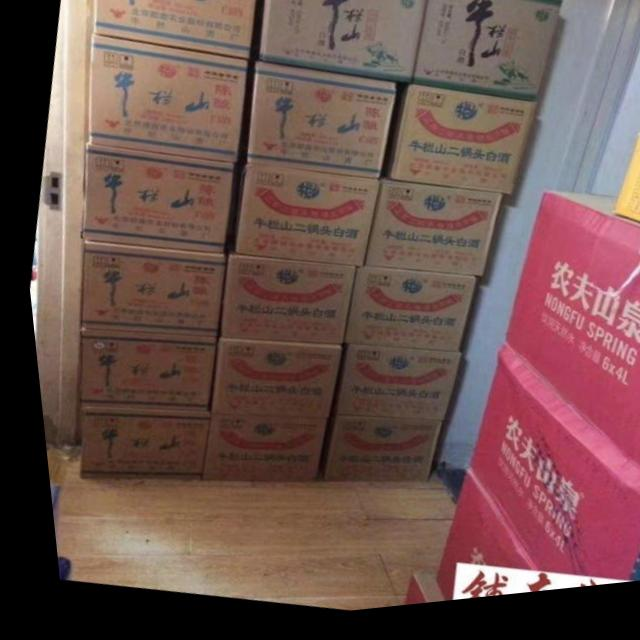box: (452, 353, 640, 593), (495, 203, 640, 487), (86, 38, 247, 165), (241, 66, 395, 185), (73, 146, 230, 258), (408, 0, 560, 114), (382, 91, 533, 205), (251, 0, 426, 92), (226, 169, 373, 272), (72, 242, 221, 342), (357, 188, 498, 287), (210, 257, 351, 351), (419, 480, 521, 609), (71, 330, 211, 418), (332, 272, 469, 360), (197, 343, 335, 426), (92, 0, 257, 66), (322, 349, 451, 430), (68, 412, 200, 484), (308, 420, 433, 488), (192, 420, 316, 488), (608, 145, 640, 240), (387, 575, 430, 613)
